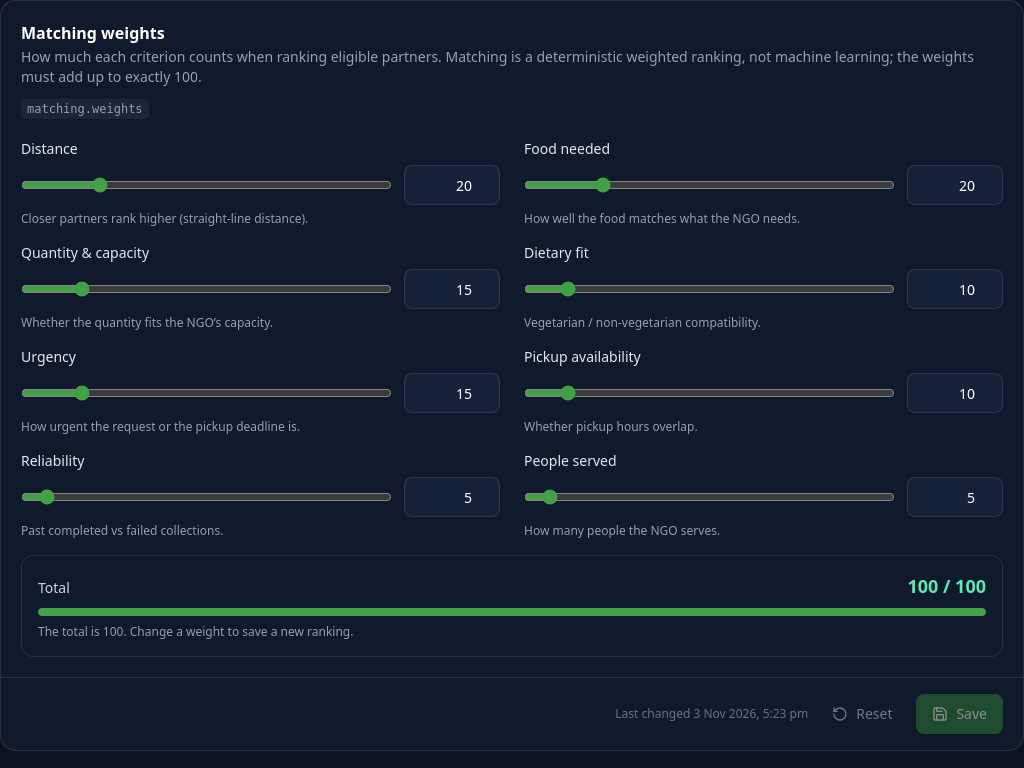
Scenario: MatchingWeightsForm › shows the live sum and only enables Save when the weights total exactly 100
Expected: the message with test id "weights-sum" reads "100 / 100", [907,572,986,600]
Expected: the button "Save" is disabled, [916,694,1003,734]
Replace the text in the number field labelled "Distance" with "25" at (452,185), box [404,165,500,205]
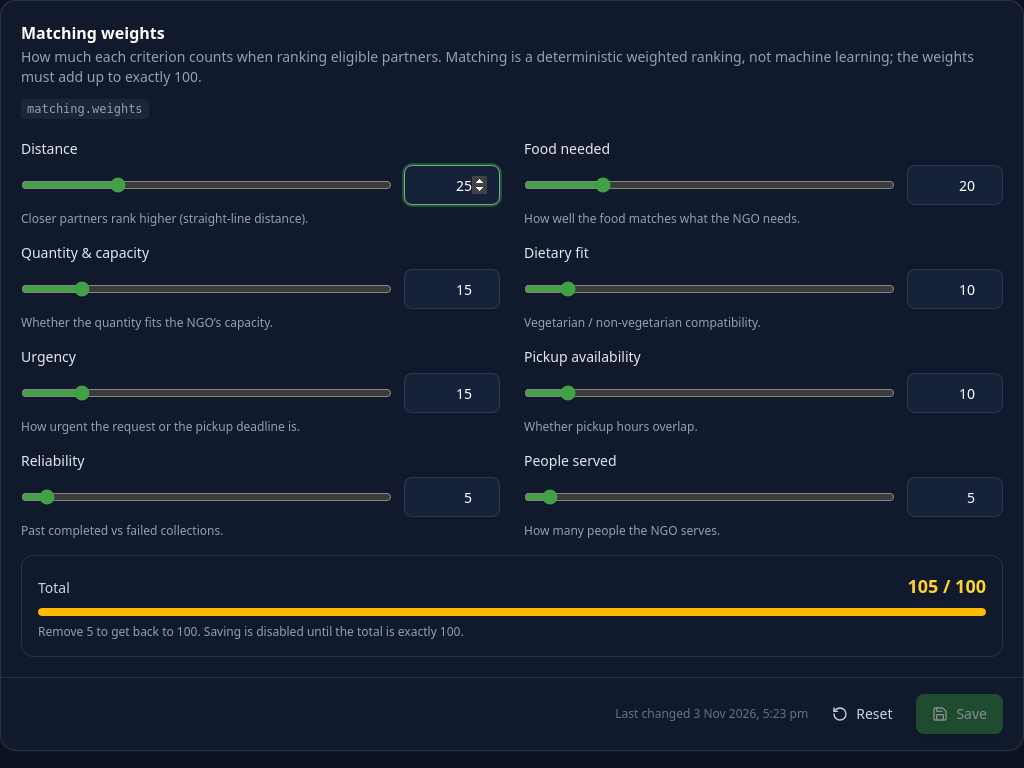
Expected: the button "Save" is disabled, [916,694,1003,734]
Result: the message with test id "weights-sum" reads "105 / 100" at [907,572,986,600]
Result: the text "Remove 5 to get back to 100" is shown at [38,623,464,640]
Replace the text in the number field labelled "Food needed" with "10" at (955,185), box [907,165,1003,205]
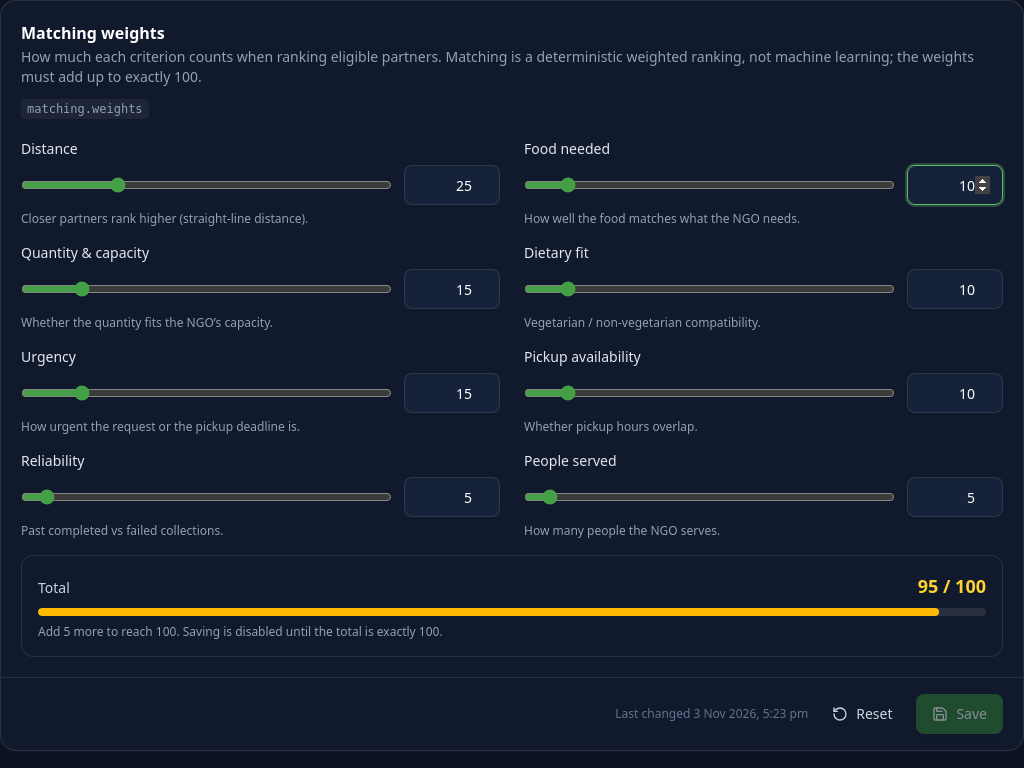
Expected: the button "Save" is disabled, [916,694,1003,734]
Result: the message with test id "weights-sum" reads "95 / 100" at [918,572,986,600]
Result: the text "Add 5 more to reach 100" is shown at [38,623,443,640]
Replace the text in the number field labelled "Food needed" with "15" at (955,185), box [907,165,1003,205]
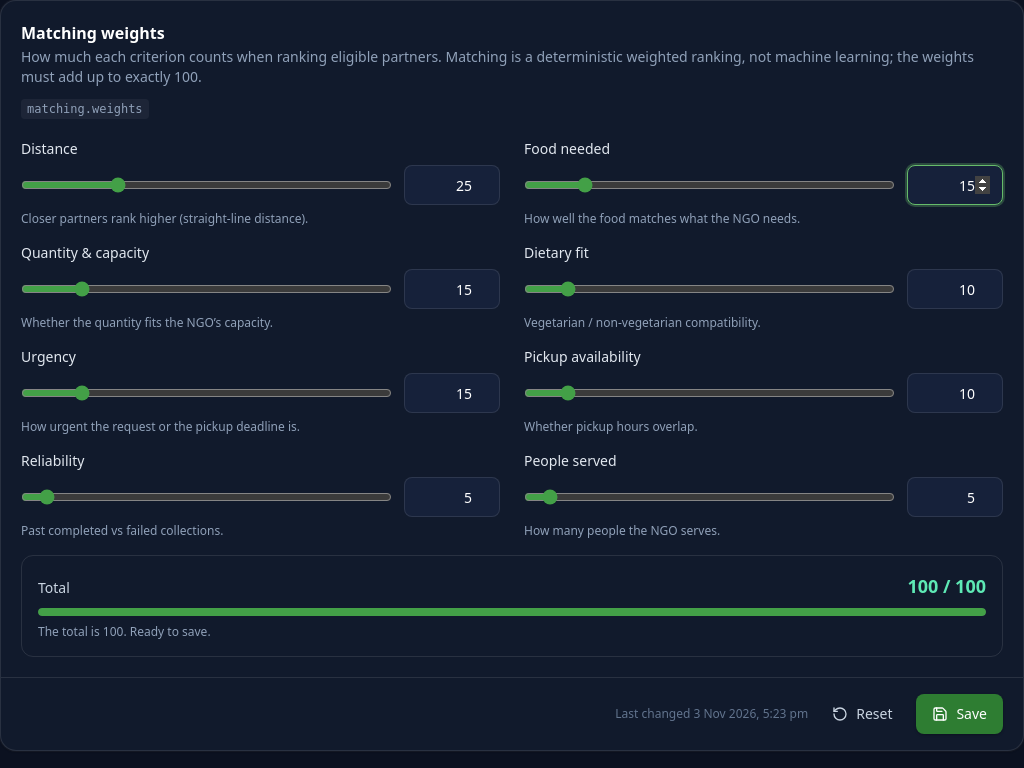
Result: the message with test id "weights-sum" reads "100 / 100" at [907,572,986,600]
Result: the button "Save" is enabled at [916,694,1003,734]
